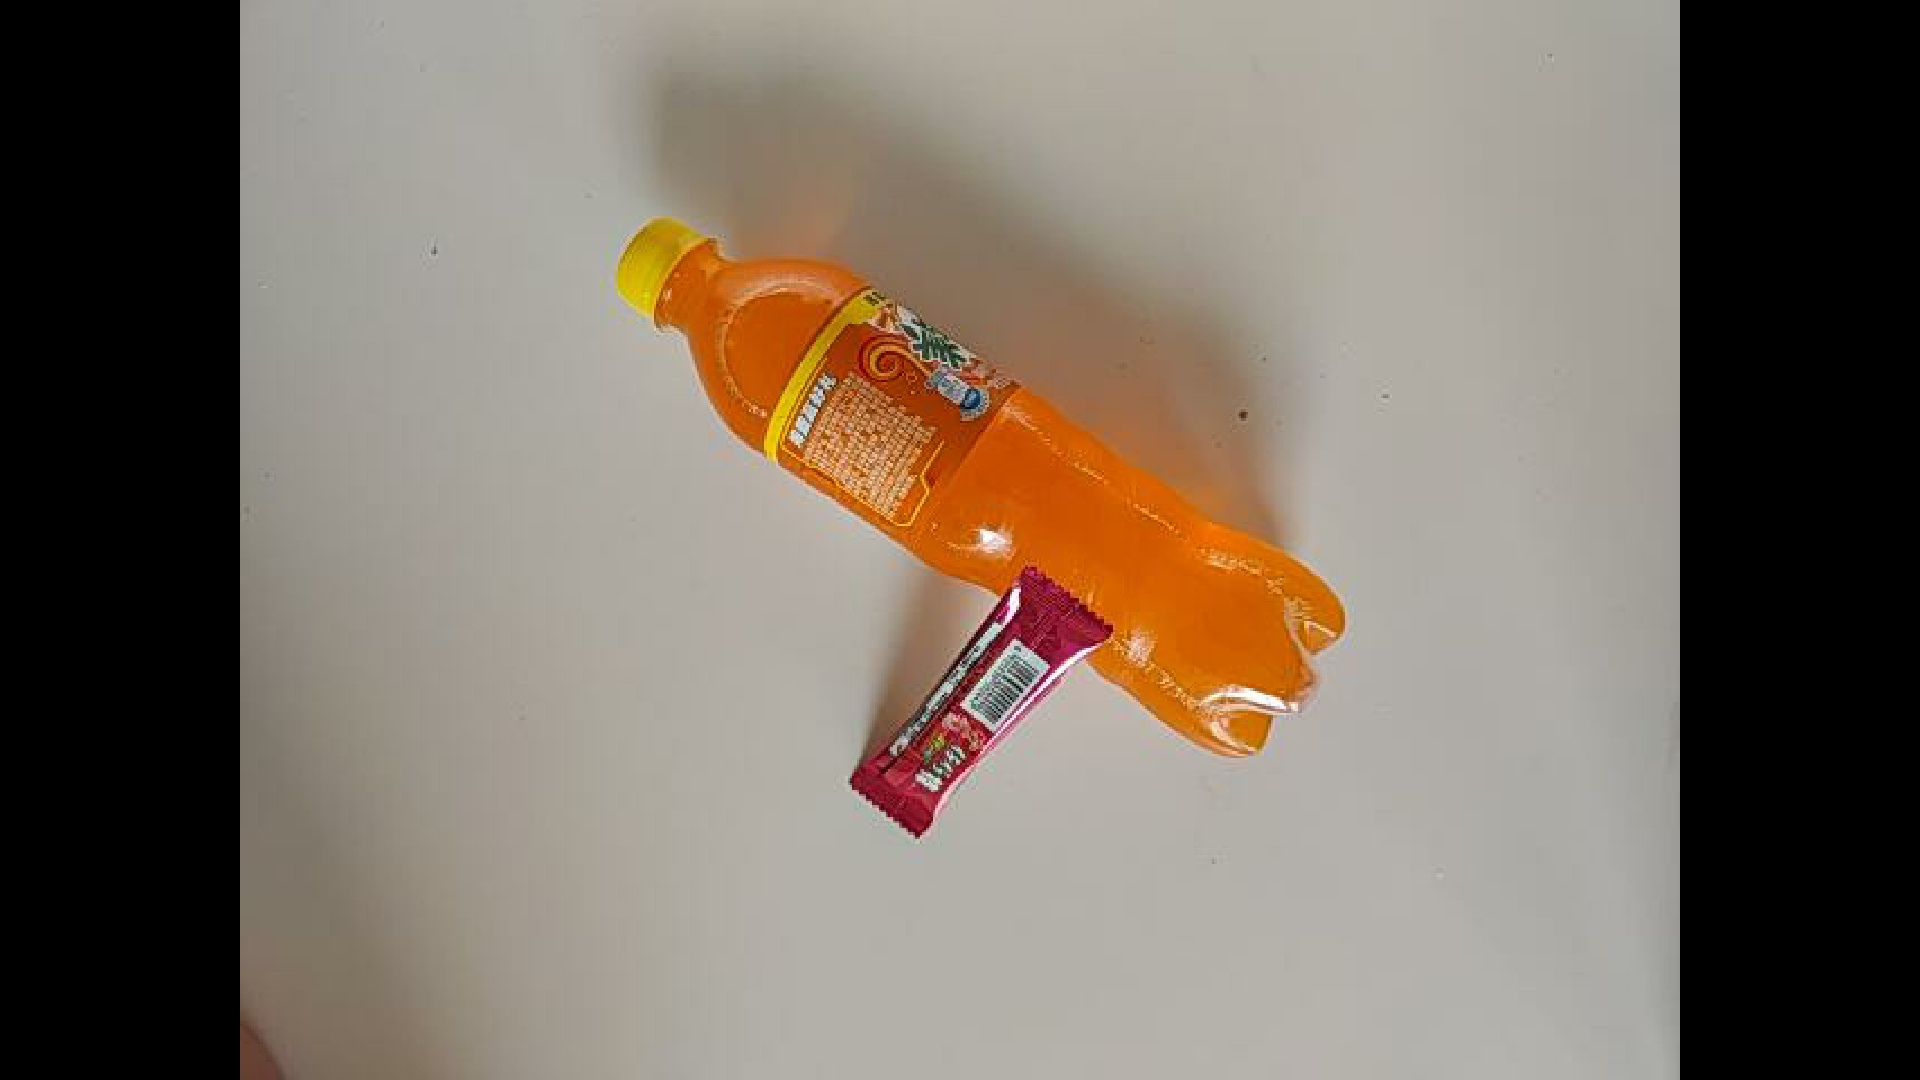fenta: (477, 152, 1373, 585)
sugar: (843, 588, 1266, 856)
